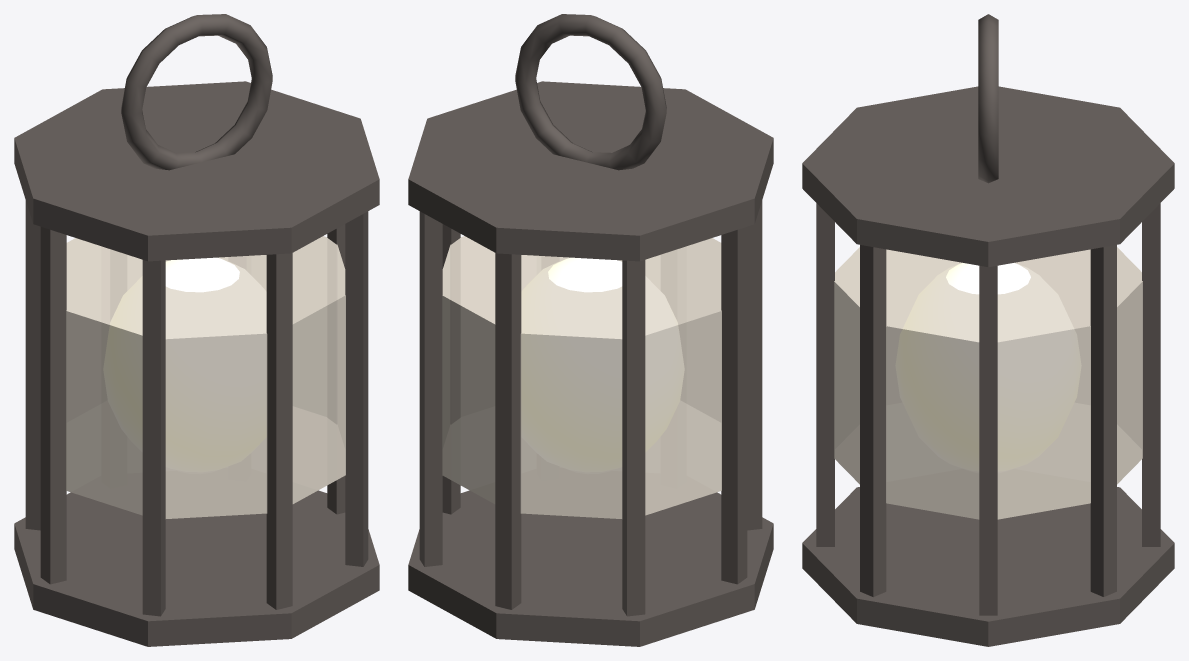
Rendered from lantern.glb.
3 renders of one model, left to right at view 1: azimuth 30°, elevation 25°; view 2: azimuth 150°, elevation 25°; view 3: azimuth 270°, elevation 25°, orthographic.
Parts seen in each view (by area): view 1: Lantern; view 2: Lantern; view 3: Lantern.
Part boxes in pixels (bbox=[...]): Lantern: bbox=[14, 14, 379, 646]; Lantern: bbox=[408, 14, 773, 646]; Lantern: bbox=[802, 14, 1174, 646].
Bounding box in the file's own units: 0.8 × 1.29 × 0.8.
